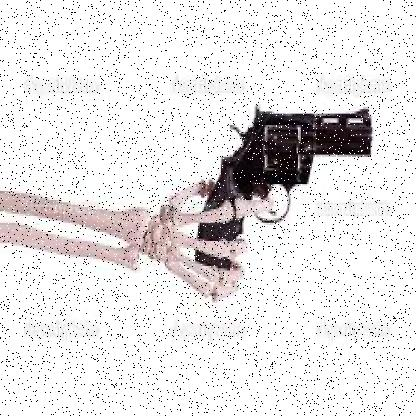pistol: (197, 105, 374, 282)
